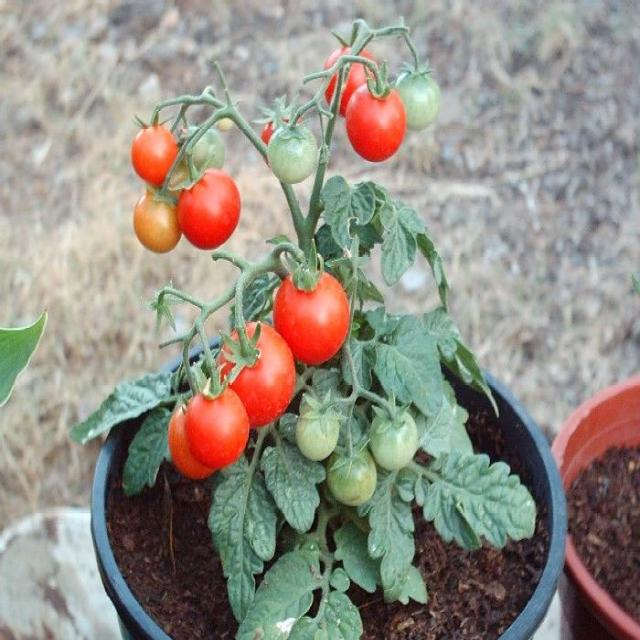level 2: (168, 122, 228, 193), (328, 445, 376, 507), (268, 124, 319, 182), (393, 72, 440, 130), (371, 410, 420, 465), (294, 407, 339, 462)
level 5: (135, 191, 186, 255)
level 6: (218, 320, 293, 429), (275, 264, 354, 364), (177, 168, 242, 251), (187, 388, 250, 470), (344, 82, 406, 164), (323, 46, 385, 118), (171, 411, 221, 477), (132, 124, 178, 184), (261, 115, 306, 174)
